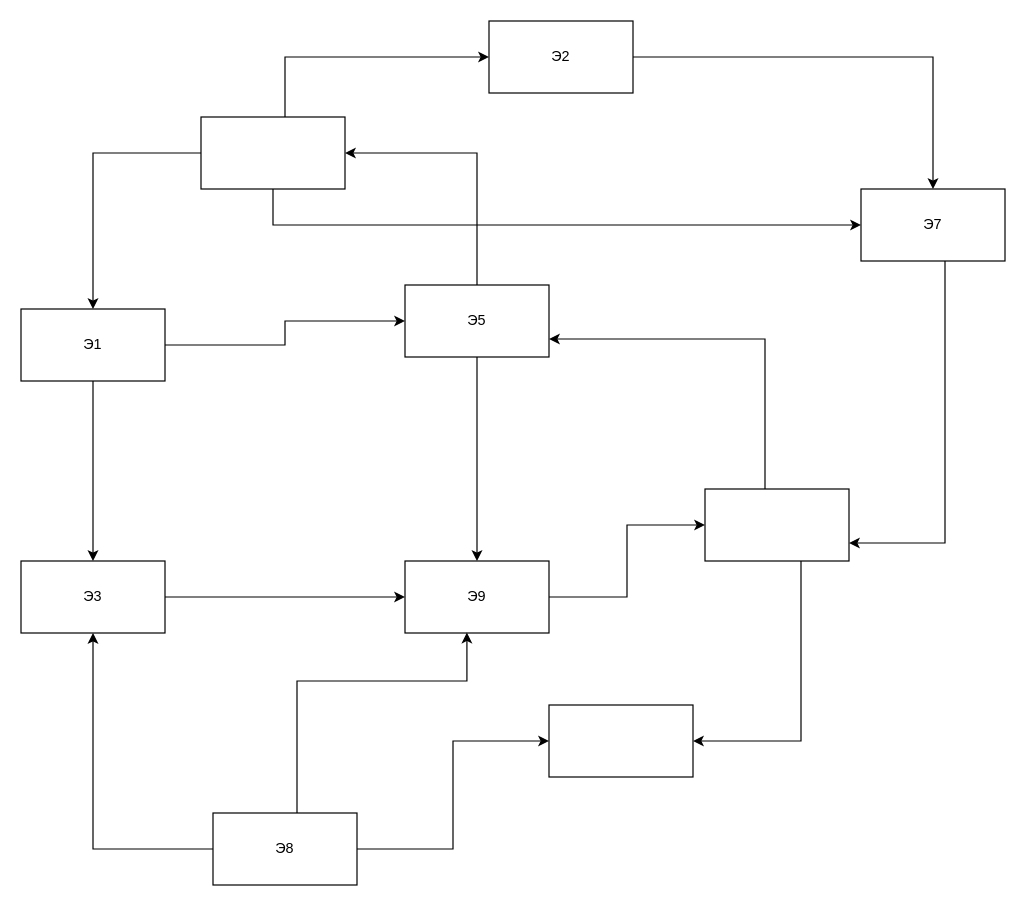
Some shapes in this 1026 by 906 pixel diagram are drawn without their labels. Each missing label, with the box of its shape:
Э10: (704, 488, 849, 561)
Э4: (200, 116, 345, 189)
Э6: (548, 704, 693, 777)
